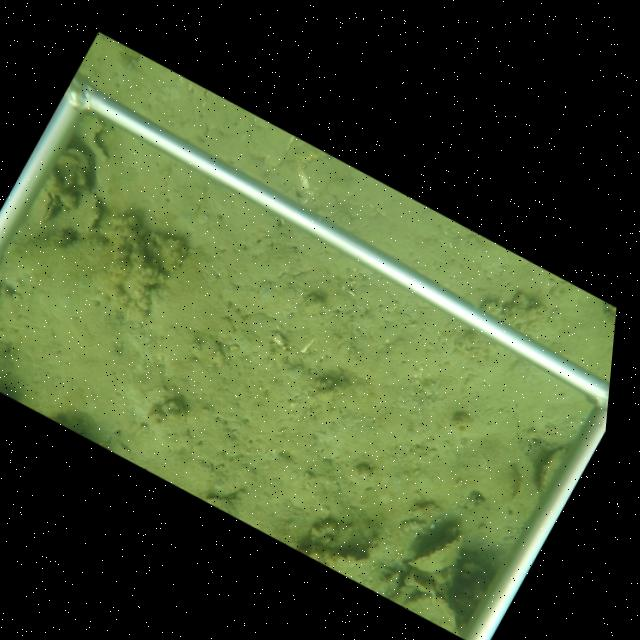Oyster-Closed: (403, 526, 464, 573), (30, 189, 58, 222), (68, 146, 93, 172), (74, 168, 89, 185)
Oyster-Indeterminate: (402, 592, 462, 636), (539, 445, 569, 495), (77, 187, 103, 234)
